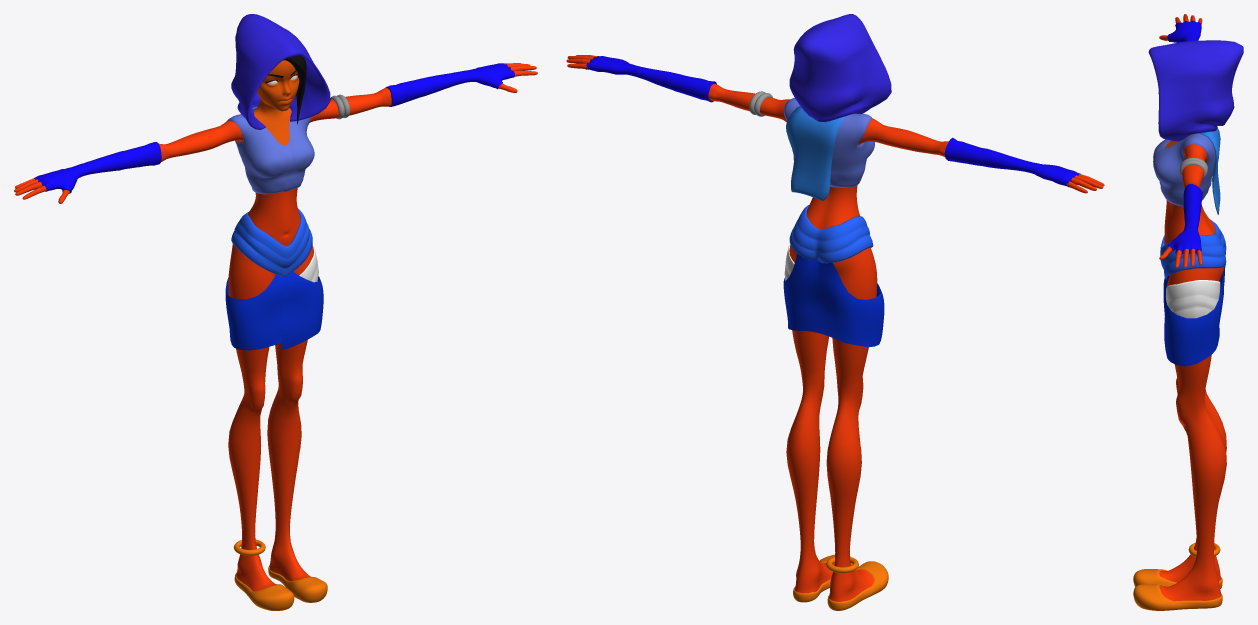
File: Lucy.fbx
3 views of the same model, side by side, from view 1: azimuth 30°, elevation 25°; view 2: azimuth 150°, elevation 25°; view 3: azimuth 270°, elevation 25° (orthographic). The views are drawn at different scales.
Parts seen in each view (by area): view 1: Body, Skirt, Hood, Gloves, Shirt, Pelvis, Face, Shoes; view 2: Body, Hood, Skirt, Gloves, Cape, Pelvis, Shirt, Shoes; view 3: Body, Hood, Skirt, Shirt, Gloves, Shoes, LegBandages, Pelvis, Cape, ArmRings.
Boxes of the visible parts, x1,y1,x2,y2 form: Body: [14, 63, 537, 591]; Skirt: [225, 272, 323, 350]; Hood: [231, 14, 330, 129]; Gloves: [34, 63, 514, 193]; Shirt: [226, 107, 314, 194]; Pelvis: [231, 208, 312, 277]; Face: [253, 60, 299, 145]; Shoes: [234, 565, 327, 610]; Body: [566, 55, 1104, 601]; Hood: [789, 14, 891, 122]; Skirt: [783, 254, 884, 347]; Gloves: [586, 56, 1080, 187]; Cape: [786, 106, 845, 200]; Pelvis: [789, 205, 873, 263]; Shirt: [784, 98, 874, 187]; Shoes: [793, 554, 888, 610]; Body: [1159, 14, 1226, 601]; Hood: [1148, 40, 1243, 141]; Skirt: [1163, 266, 1225, 366]; Shirt: [1153, 133, 1215, 206]; Gloves: [1167, 20, 1202, 254]; Shoes: [1133, 569, 1222, 610]; LegBandages: [1166, 280, 1220, 318]; Pelvis: [1160, 219, 1226, 279]; Cape: [1199, 128, 1220, 214]; ArmRings: [1179, 157, 1207, 178].
Bounding box in the file's own units: 62.39 × 63.98 × 11.52.
